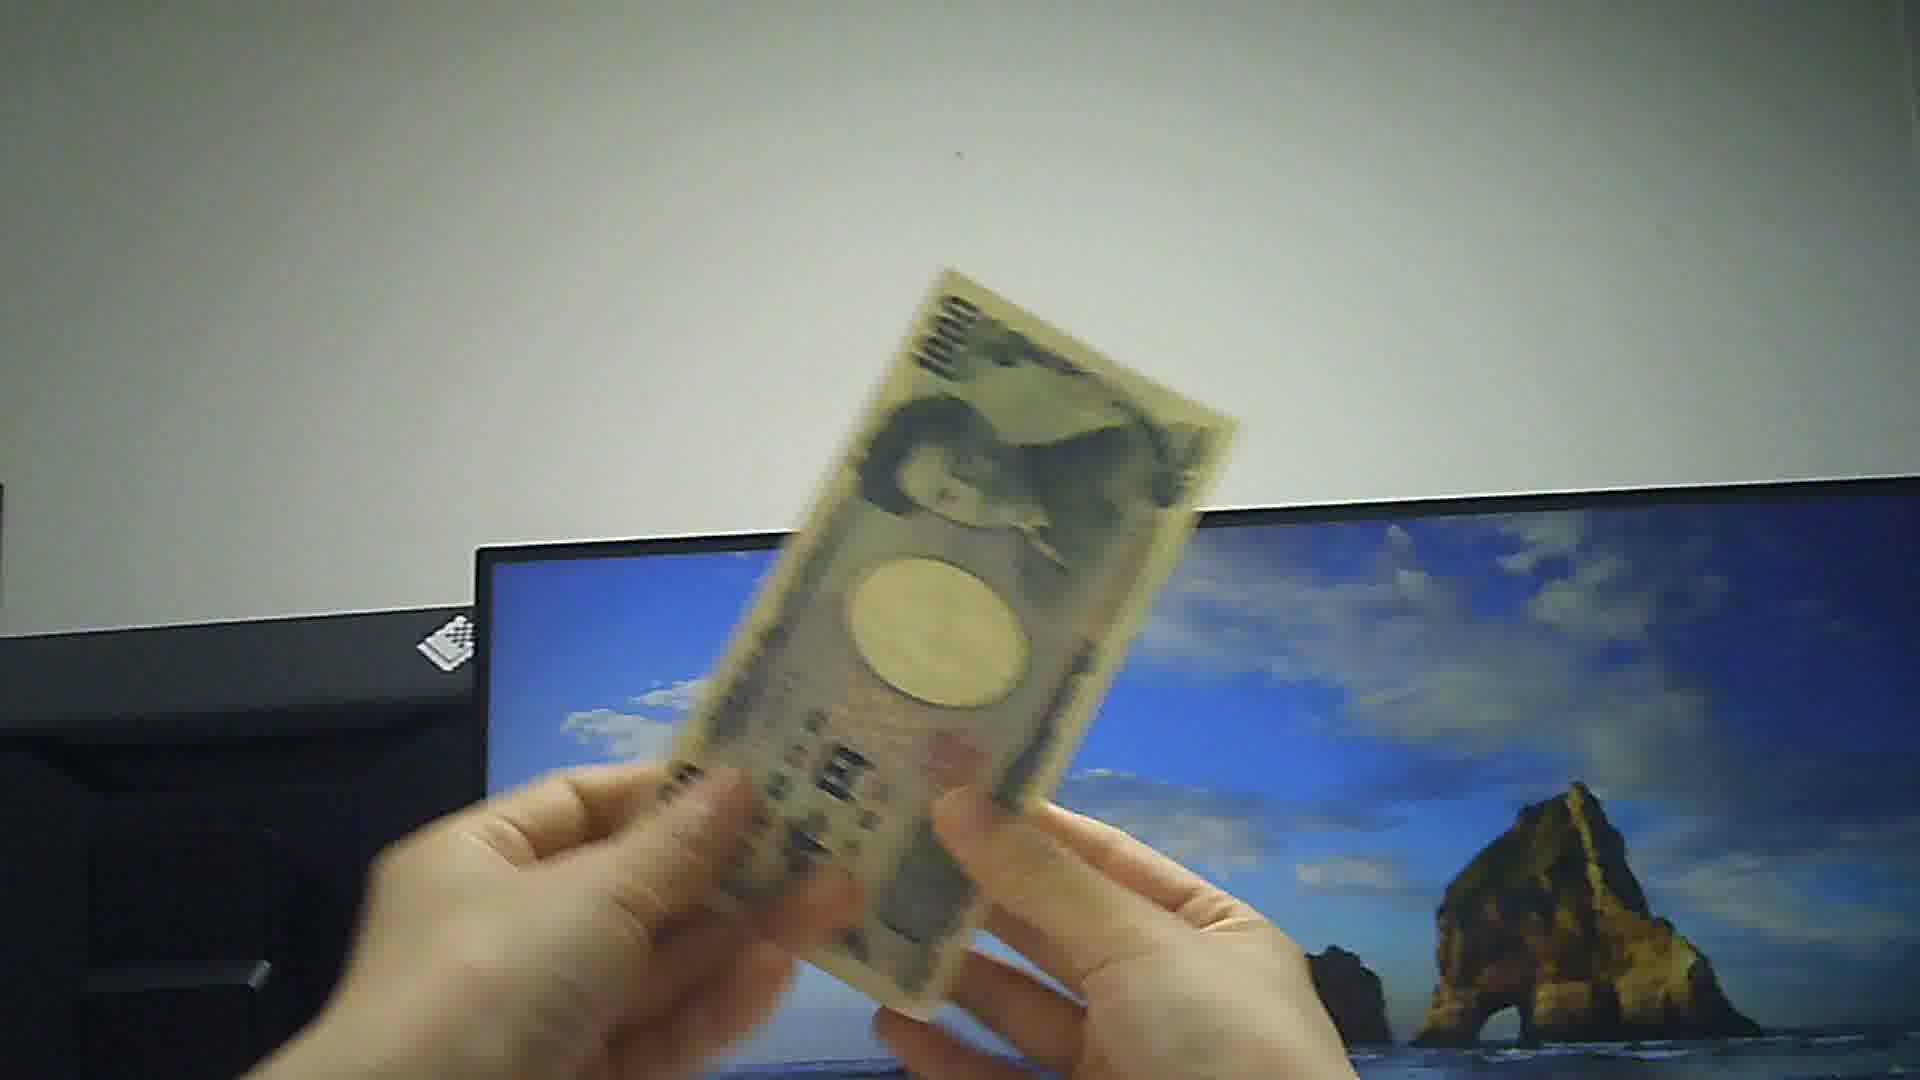1,000 Yen: (626, 251, 1269, 1031)
